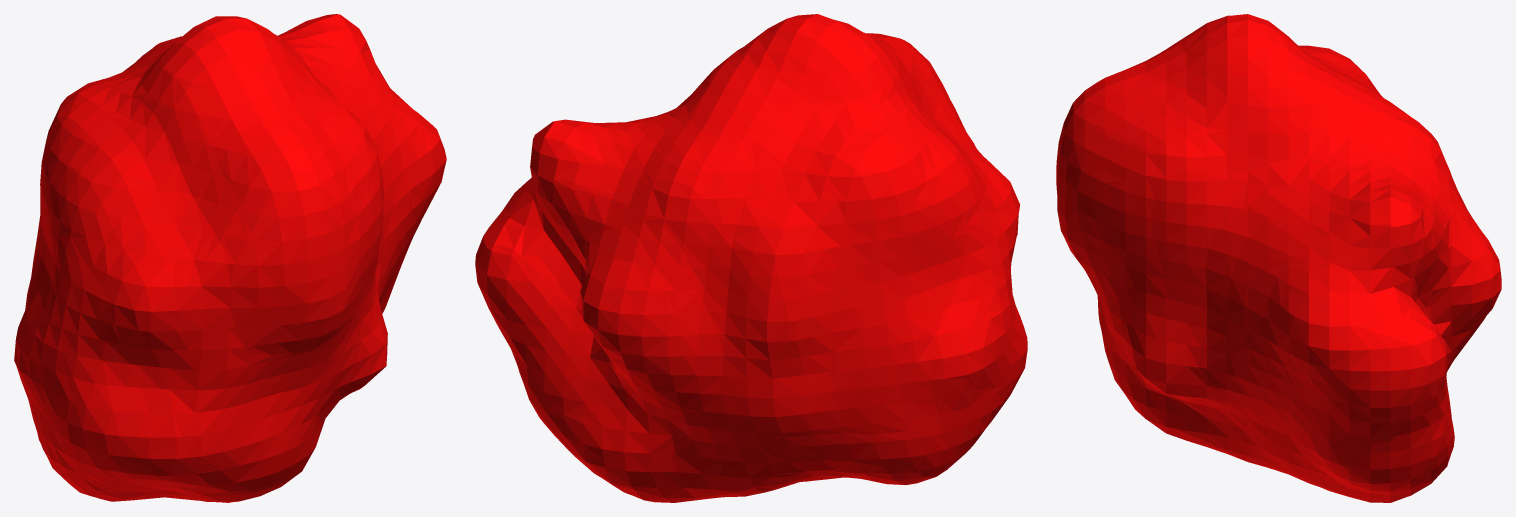
The model's file is yqcA_coarse.dae.
3 views of the same model, side by side, from view 1: azimuth 30°, elevation 25°; view 2: azimuth 150°, elevation 25°; view 3: azimuth 270°, elevation 25° (orthographic). The views are drawn at different scales.
Visible parts, largest first — view 1: yqcA; view 2: yqcA; view 3: yqcA.
Part boxes in pixels (x1,y1,x2,y2): yqcA: [14, 14, 446, 502]; yqcA: [475, 14, 1027, 502]; yqcA: [1056, 14, 1501, 502].
Size of the model in its own units: 43.43 by 42.56 by 38.91.
